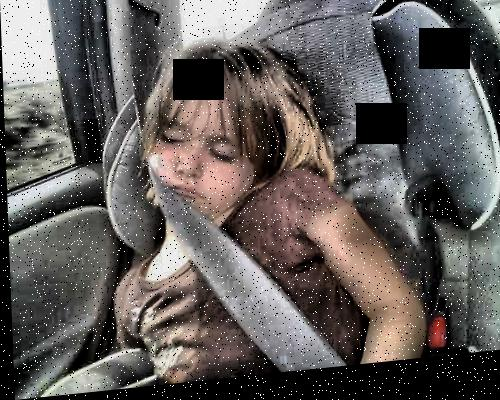seatbelt: (119, 0, 330, 385)
